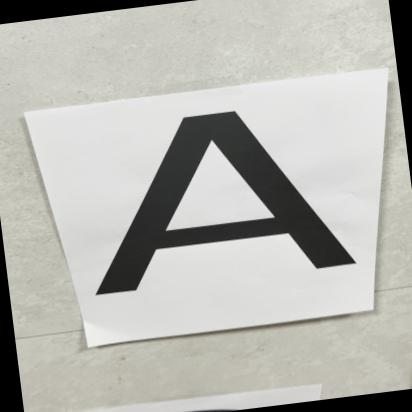seat: (66, 85, 378, 329)
